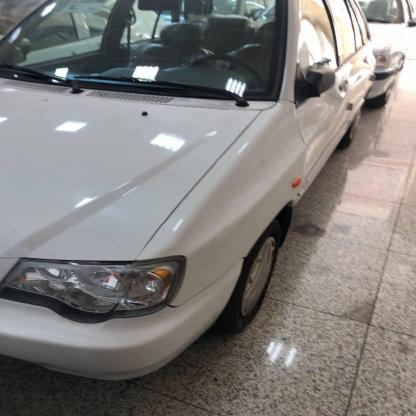Car: (0, 0, 385, 354), (310, 0, 416, 114)
